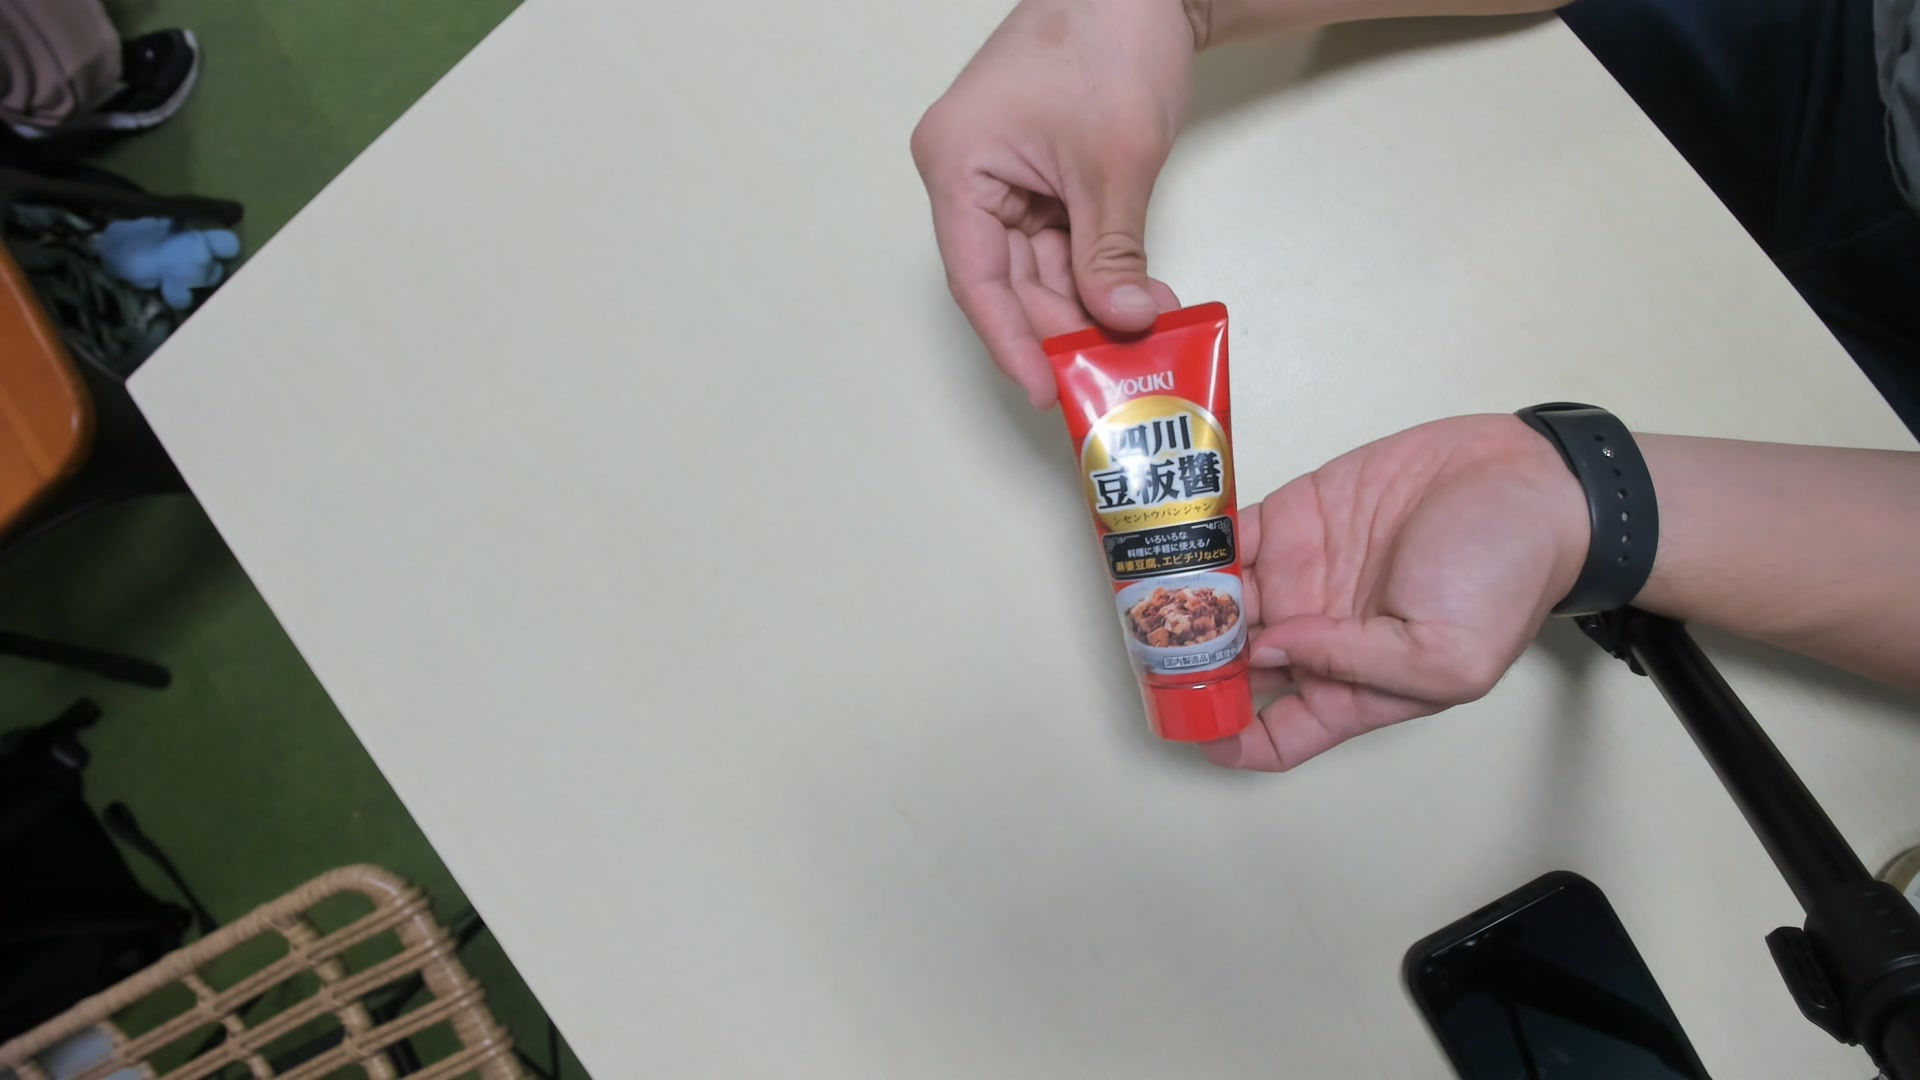OtherSauceDressing_100-199g_NonHalal_NonHealthy: (1044, 307, 1249, 741)
